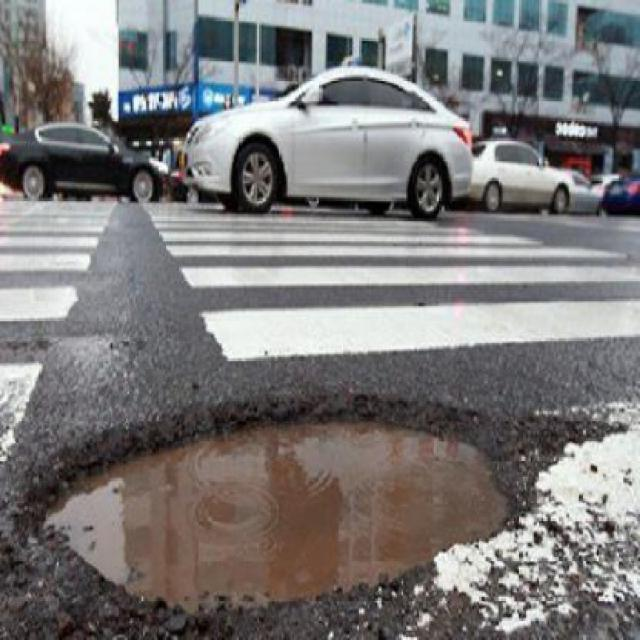pothole: (17, 387, 533, 629)
